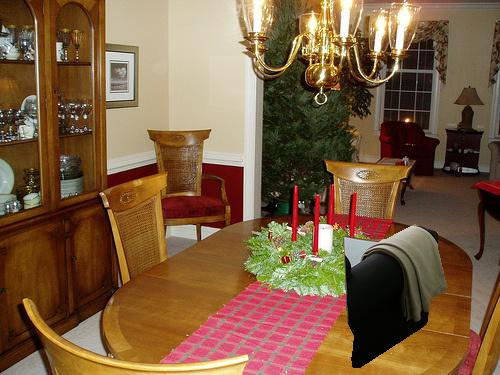tampered: (344, 225, 447, 368)
